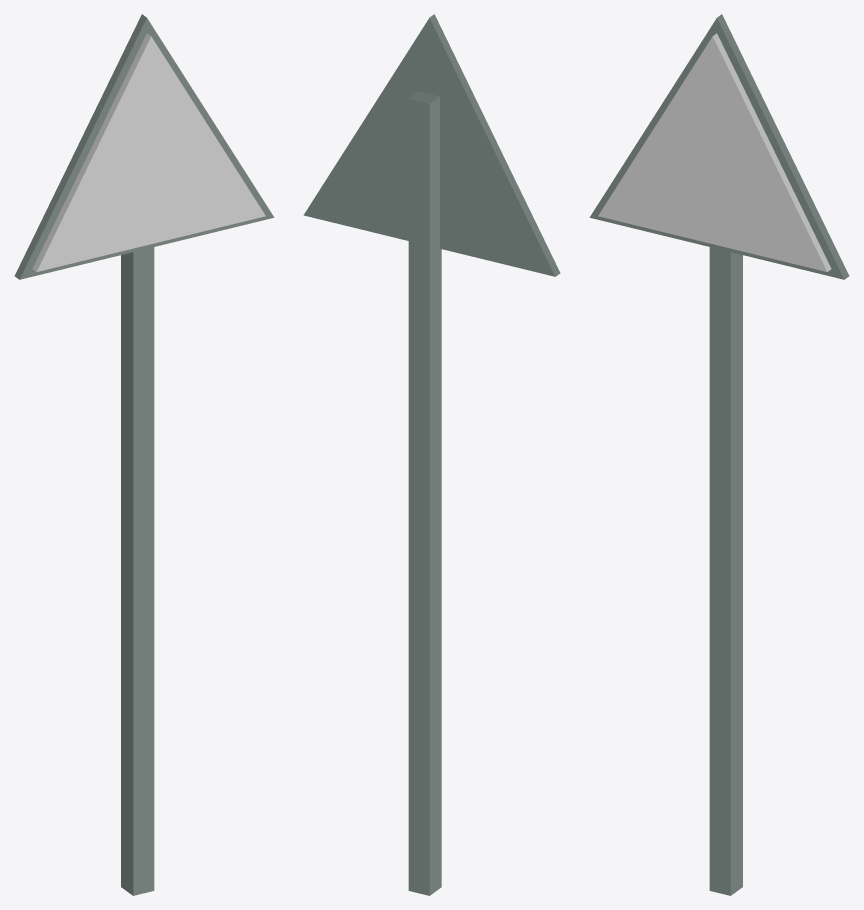
The model's file is SM_Senal_v2_Triangular_LOD0.fbx.
3 renders of one model, left to right at view 1: azimuth 30°, elevation 25°; view 2: azimuth 150°, elevation 25°; view 3: azimuth 330°, elevation 25°, orthographic.
Parts seen in each view (by area): view 1: SM_urbano_extra_v17_LOD0; view 2: SM_urbano_extra_v17_LOD0; view 3: SM_urbano_extra_v17_LOD0.
Boxes of the visible parts, box(x1,y1,x2,y2) form: SM_urbano_extra_v17_LOD0: box(14, 14, 274, 895); SM_urbano_extra_v17_LOD0: box(303, 14, 560, 895); SM_urbano_extra_v17_LOD0: box(589, 14, 849, 895).
Bounding box in the file's own units: 0.866 × 2.85 × 0.116.
